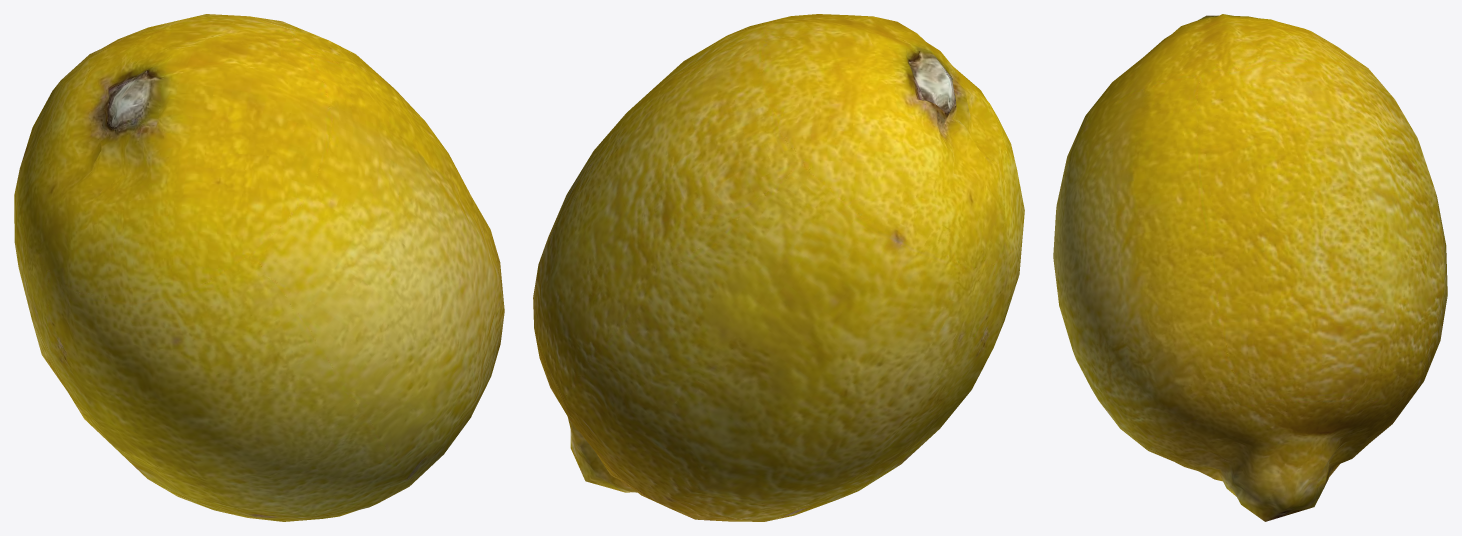
3 renders of one model, left to right at view 1: azimuth 30°, elevation 25°; view 2: azimuth 150°, elevation 25°; view 3: azimuth 270°, elevation 25°, orthographic. The views are drawn at different scales.
Parts seen in each view (by area): view 1: lemon; view 2: lemon; view 3: lemon.
Boxes of the visible parts, box(x1,y1,x2,y2) form: lemon: box(14, 14, 504, 521); lemon: box(533, 14, 1024, 521); lemon: box(1053, 14, 1447, 521).
Bounding box in the file's own units: 0.0666 × 0.065 × 0.0739.
Materials: 1 (1 with a texture image).
